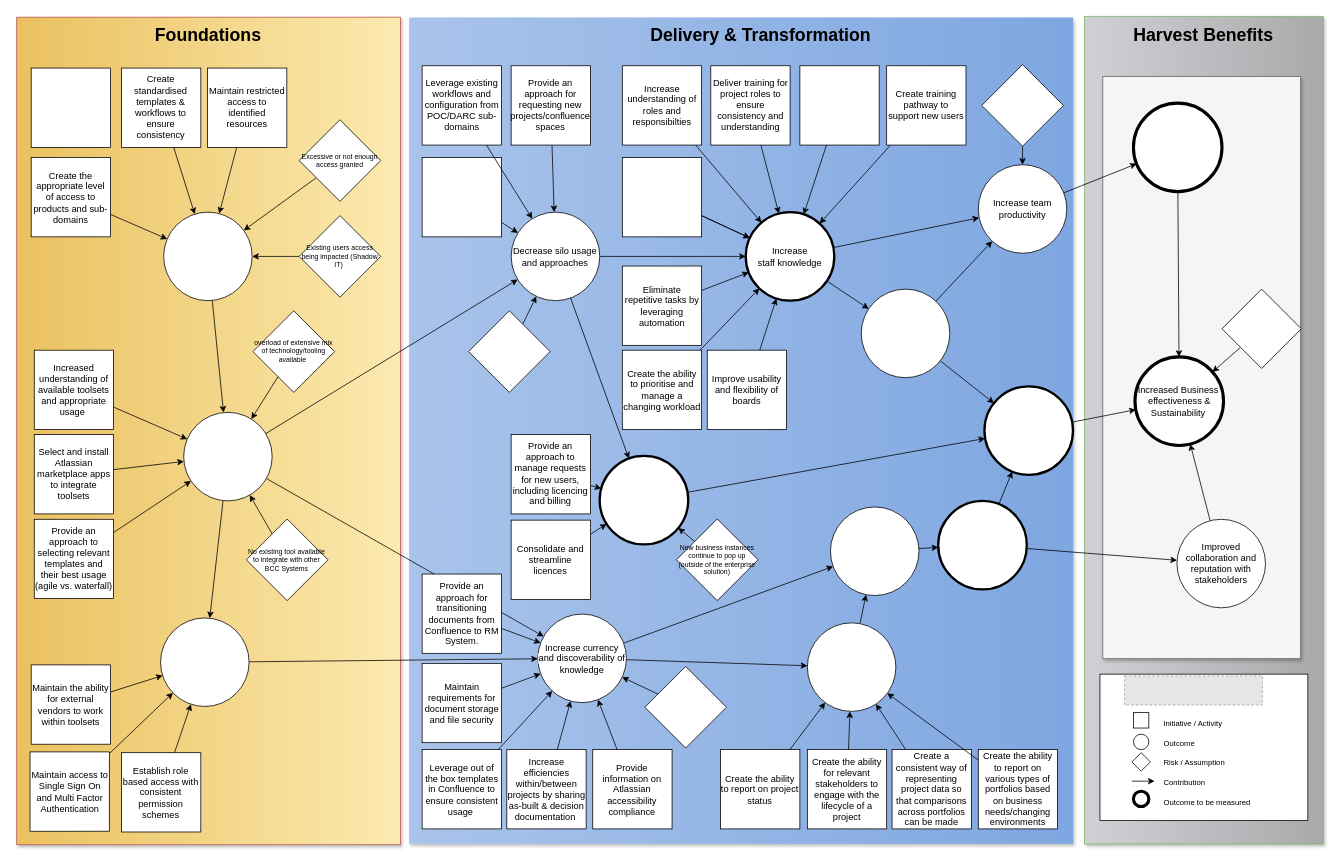
Image size: 1342x863. Some labels were removed from this diagram. Grey dashed boxes stand in for pictures. The centre of each missing label's shape, as x and y in pixels:
"Create an approach for managing add ons" goes at point 461,197.
"Create common understanding of terminology" goes at point 70,107.
"Create consistent ways of working at BCC" goes at point 207,256.
"Create the ability to manage a backlog of work/projects" goes at point 662,197.
"Current operating model is complex" goes at point 1261,328.
"Decrease manual input and duplication of effort" goes at point 905,333.
"Decrease time and cost for project delivery" goes at point 1028,430.
"Decrease time and cost impact on project stakeholders" goes at point 982,544.
"Decrease total cost of ownership of Atlassian software licences" goes at point 643,499.
"Identify and train administrators" goes at point 839,105.
"Improved visibility of progress and risk reporting" goes at point 851,666.
"Increase cross team collaboration" goes at point 204,661.
"Increase staff satisfaction" goes at point 1177,147.
"Increase utilisation of technology to support ways of working" goes at point 227,456.
"Increased visibility and transparency of current and future workload" goes at point 874,551.
"System performance impacts team productivity." goes at point 1022,105.
"Teams revert to using old tools" goes at point 509,351.
"Tooling unable to pass accessibility requirements" goes at point 685,707.
